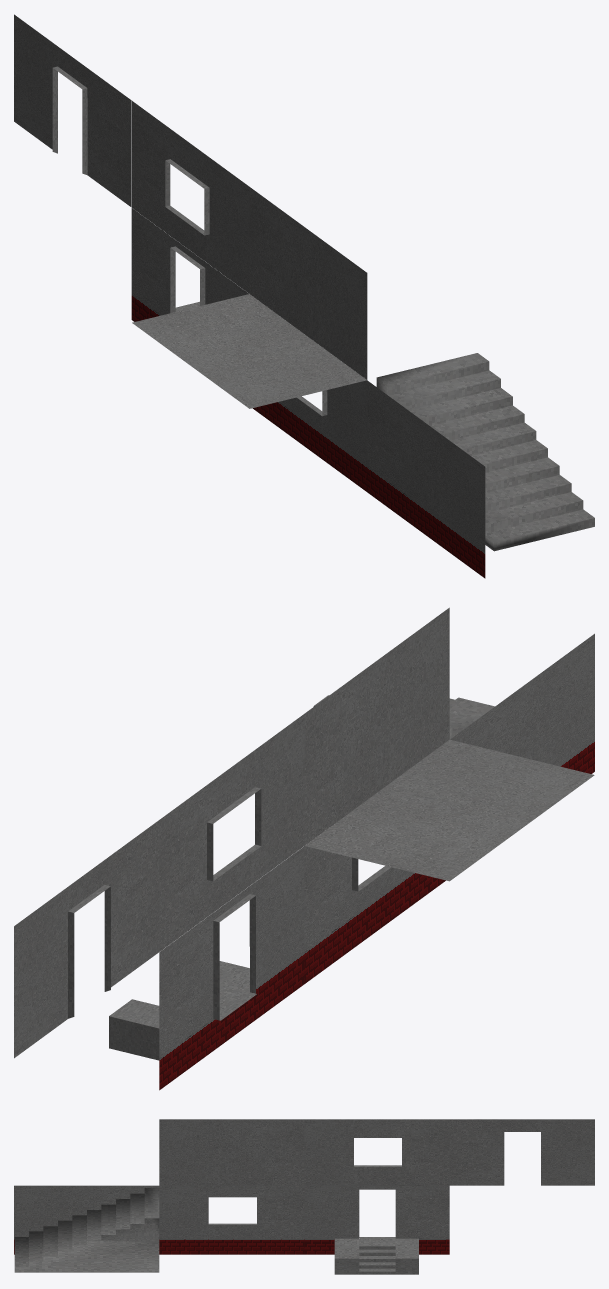
The model's file is walls.glb.
3 renders of one model, top to bottom at view 1: azimuth 30°, elevation 25°; view 2: azimuth 150°, elevation 25°; view 3: azimuth 270°, elevation 25°, orthographic. The views are drawn at different scales.
Parts seen in each view (by area): view 1: Cube_Cube.001, roof, wall, wall.001, wall-window.001, wall-door.002, wall-window, wall-door; view 2: roof, wall.001, wall-door, wall-window.001, wall-door.002, wall, wall-window, wall-door.001, Cube_Cube.001; view 3: wall.001, wall-window, Cube_Cube.001, wall-window.001, wall-door.002, wall-door, wall, wall-door.001.
Boxes of the visible parts, left/top/right/bottom form: Cube_Cube.001: left=376, top=353, right=594, bottom=551; roof: left=132, top=294, right=366, bottom=408; wall: left=367, top=380, right=485, bottom=578; wall.001: left=249, top=187, right=367, bottom=379; wall-window.001: left=132, top=101, right=249, bottom=293; wall-door.002: left=14, top=14, right=131, bottom=207; wall-window: left=253, top=380, right=367, bottom=491; wall-door: left=131, top=208, right=248, bottom=321; roof: left=305, top=739, right=594, bottom=881; wall.001: left=304, top=607, right=449, bottom=845; wall-door: left=159, top=846, right=304, bottom=1090; wall-window.001: left=159, top=714, right=304, bottom=951; wall-door.002: left=14, top=820, right=159, bottom=1058; wall: left=450, top=633, right=594, bottom=773; wall-window: left=304, top=846, right=445, bottom=983; wall-door.001: left=109, top=961, right=256, bottom=1060; Cube_Cube.001: left=313, top=695, right=494, bottom=739; wall.001: left=159, top=1119, right=304, bottom=1185; wall-window: left=159, top=1185, right=304, bottom=1254; Cube_Cube.001: left=14, top=1188, right=159, bottom=1272; wall-window.001: left=304, top=1119, right=449, bottom=1185; wall-door.002: left=449, top=1119, right=594, bottom=1185; wall-door: left=304, top=1185, right=449, bottom=1254; wall: left=14, top=1185, right=159, bottom=1254; wall-door.001: left=334, top=1237, right=418, bottom=1274.
Size of the model in its own units: 4.47 by 4.11 by 16.
1 material, 1 textured.
